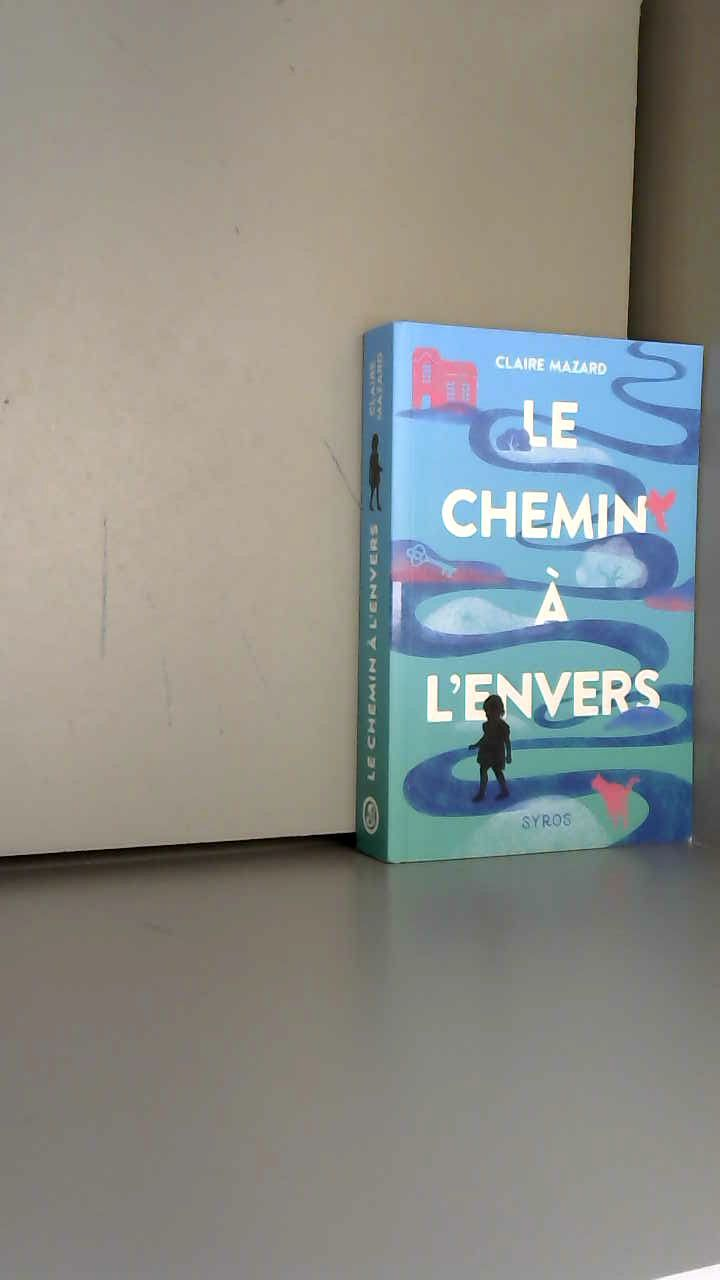book: (330, 300, 720, 910)
